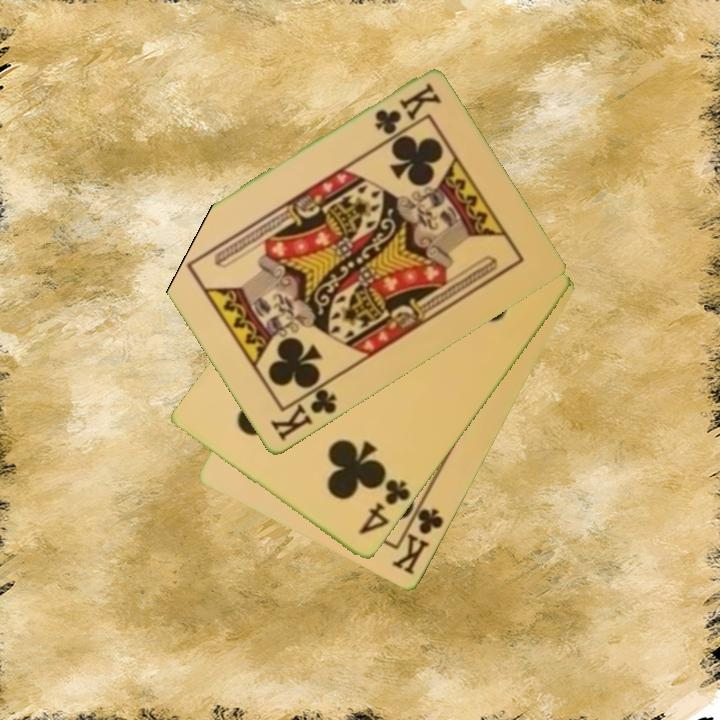4c: (355, 476, 414, 538)
Kc: (388, 495, 447, 579), (267, 378, 340, 445), (370, 79, 444, 138)
